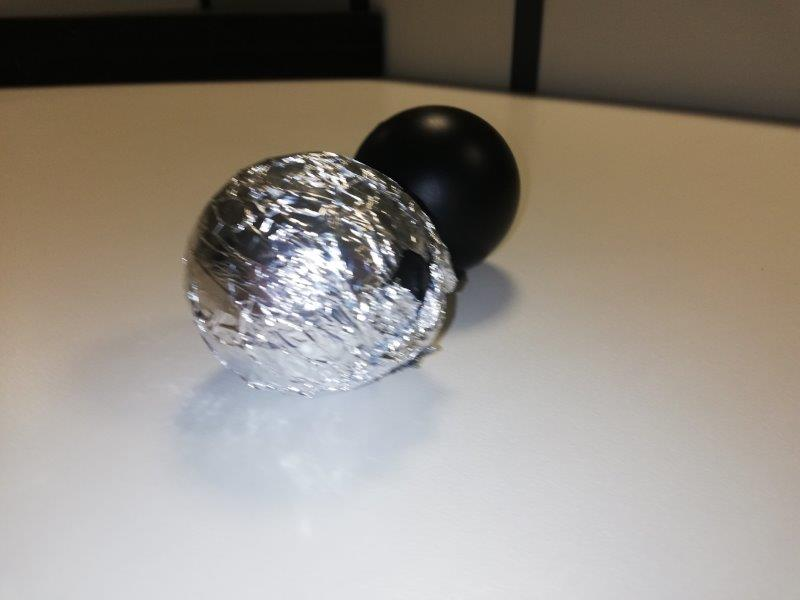bianca: (184, 156, 451, 393)
nera: (348, 105, 525, 265)
